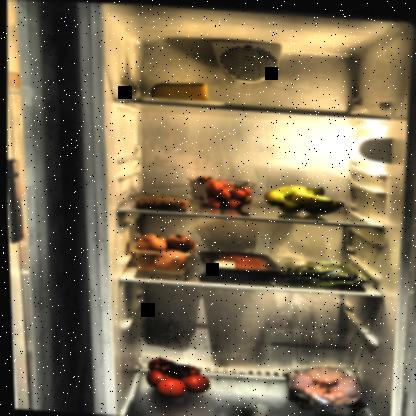banana: (261, 179, 348, 216)
beef: (216, 252, 272, 271)
cheese: (147, 77, 213, 104)
chicken: (280, 360, 368, 415)
green_beans: (278, 258, 372, 290)
onion: (133, 228, 192, 269)
shrimp: (133, 191, 187, 210)
strawberries: (185, 173, 255, 210)
tomato: (140, 353, 212, 400)
